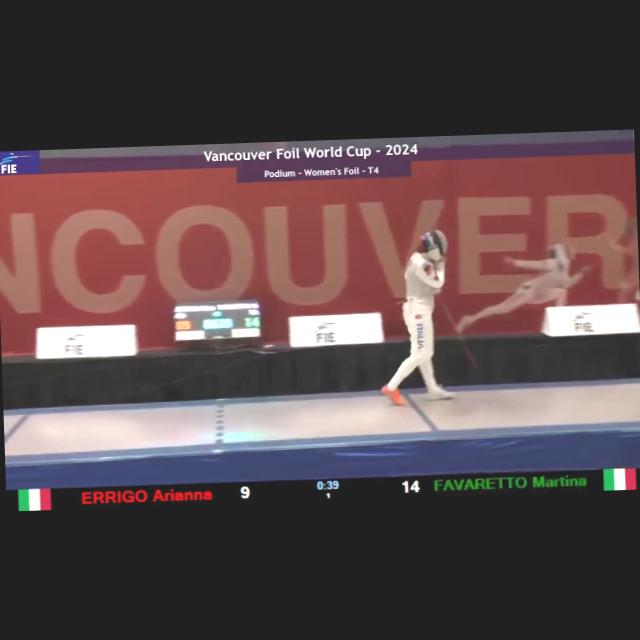blade: (433, 283, 478, 370)
